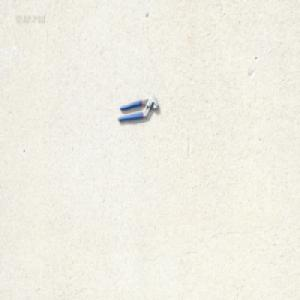Pliers: (117, 95, 159, 123)
